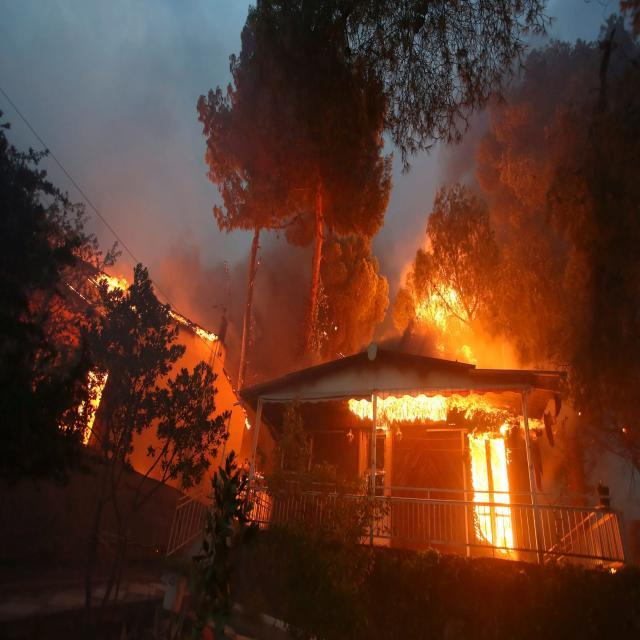Smoke: (148, 228, 318, 386)
